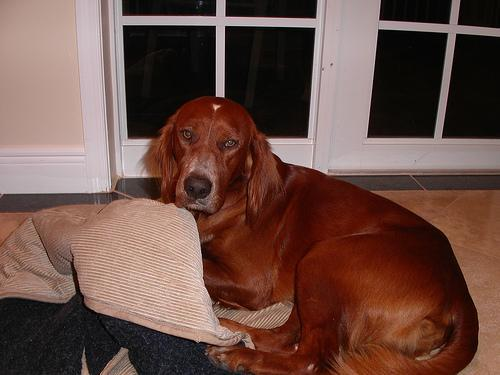Irish_setter: (134, 97, 480, 374)
